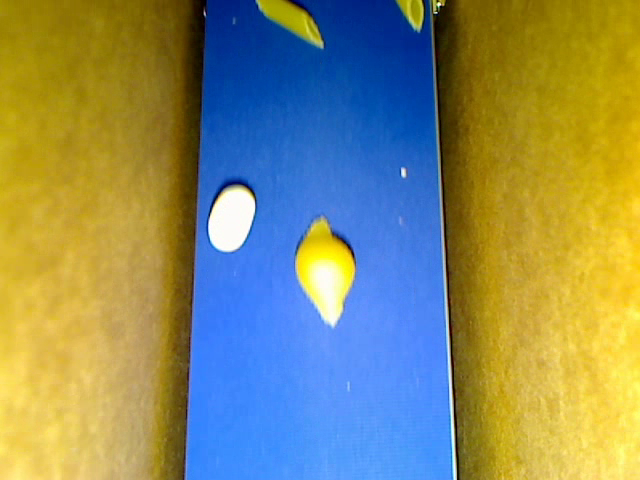penne: (255, 1, 326, 51), (395, 1, 424, 32)
shell: (294, 215, 355, 328)
